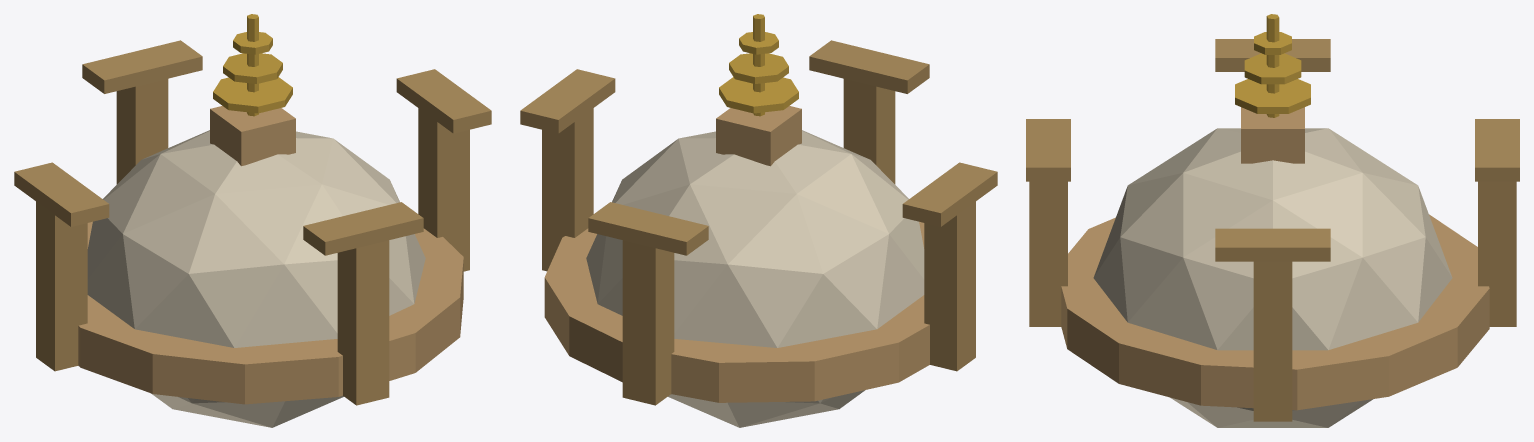
The model's file is cat_landmark.glb.
3 views of the same model, side by side, from view 1: azimuth 30°, elevation 25°; view 2: azimuth 150°, elevation 25°; view 3: azimuth 270°, elevation 25° (orthographic).
Parts seen in each view (by area): view 1: cat_landmark; view 2: cat_landmark; view 3: cat_landmark.
Part boxes in pixels (left/top/right/bottom): cat_landmark: left=14, top=14, right=491, bottom=427; cat_landmark: left=520, top=14, right=997, bottom=427; cat_landmark: left=1026, top=14, right=1519, bottom=427.
Size of the model in its own units: 3.85 by 3.44 by 3.85.
